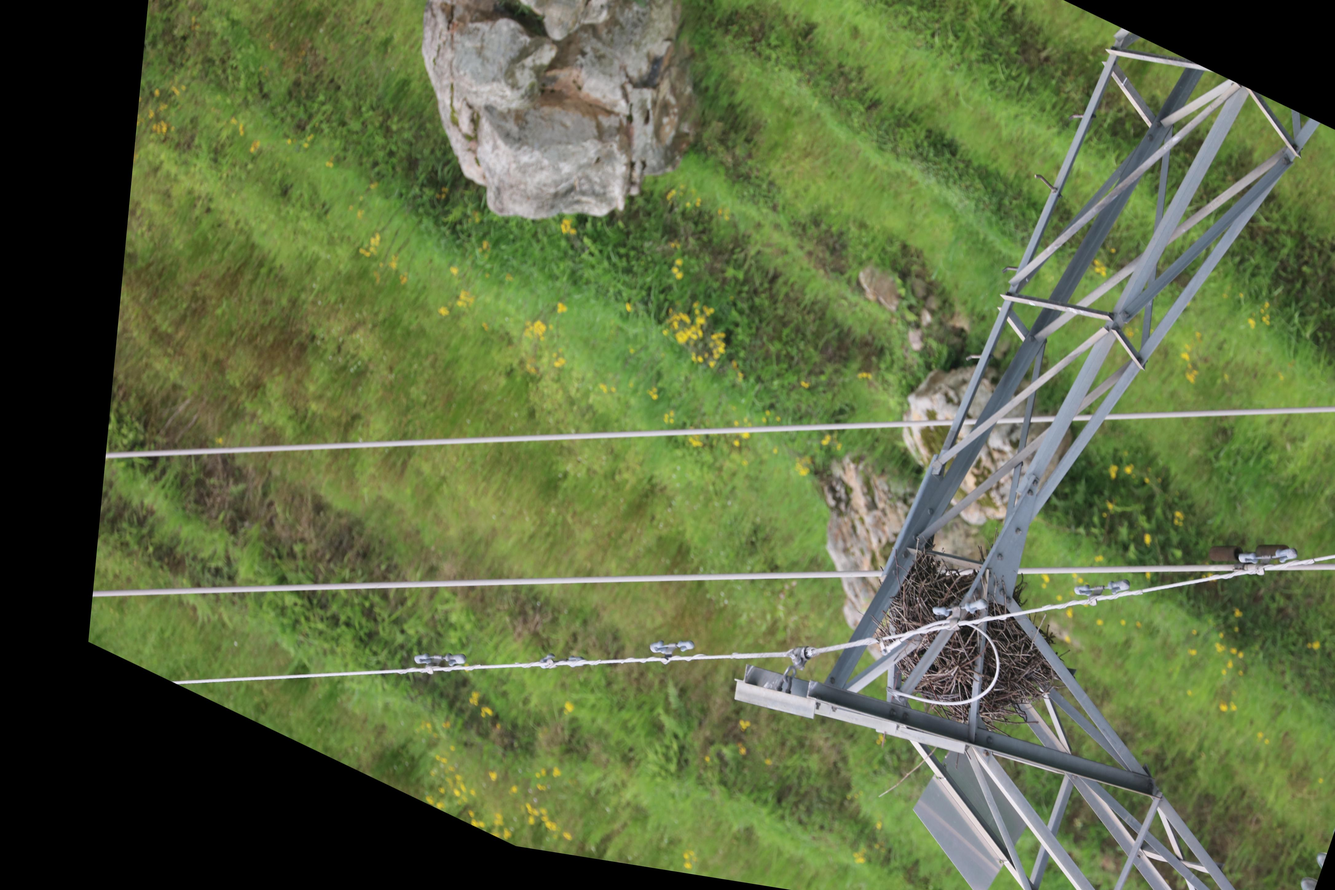damper: (1230, 520, 1305, 594), (924, 573, 994, 644), (1066, 553, 1136, 624), (406, 628, 473, 692), (641, 619, 700, 680)
damper_defect: (1199, 507, 1297, 598)
